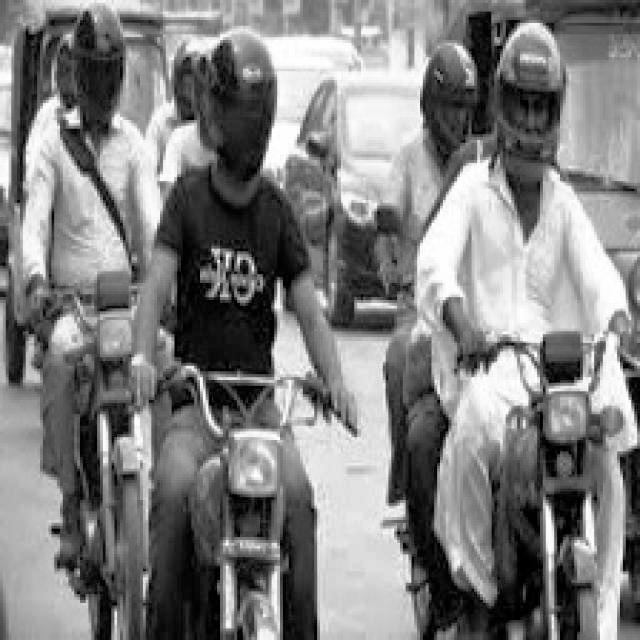Bike: (46, 277, 158, 637), (503, 306, 609, 628), (185, 369, 293, 637)
